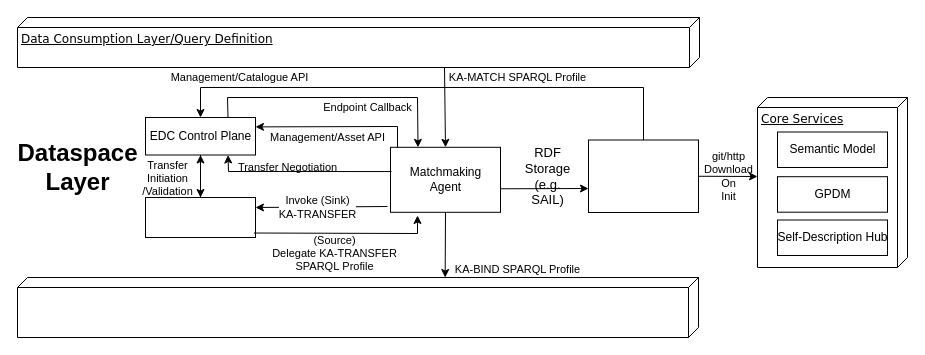
The diagram is 925 pixels wide and 355 high, and some of its shapes have lost their labels. The centre of each missing label's shape, as x and y in pixels:
"Binding Layer" goes at point 357,307.
"EDC Data Plane(s)" goes at point 200,217.
"Federated Catalogue" goes at point 643,175.
